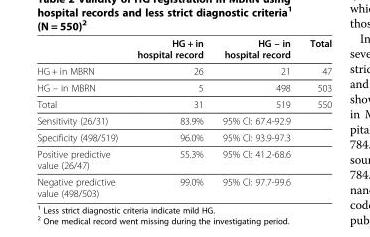table: (36, 37, 331, 198)
table column: (36, 37, 126, 198), (212, 37, 299, 198), (126, 37, 212, 198), (299, 37, 331, 198)
table column header: (36, 37, 331, 62)
table row: (36, 145, 331, 173), (36, 37, 331, 62), (36, 173, 331, 198), (36, 62, 331, 79), (36, 95, 331, 112), (36, 128, 331, 145), (36, 79, 331, 95), (36, 112, 331, 128)
